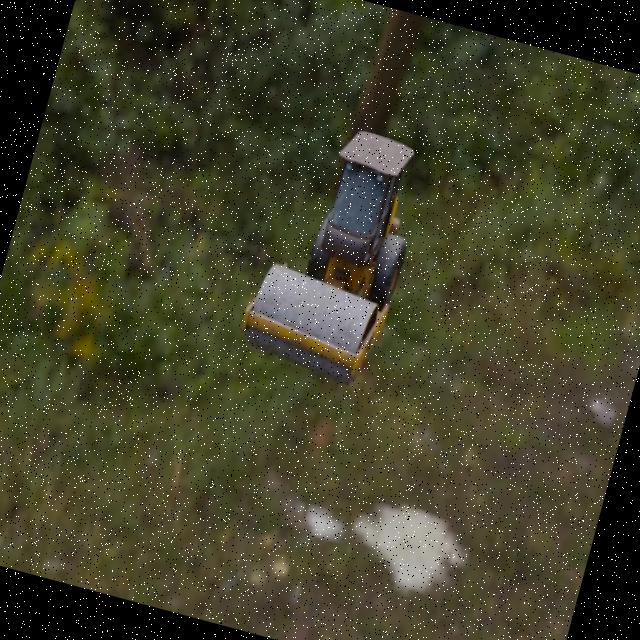Roller: (232, 114, 433, 392)
